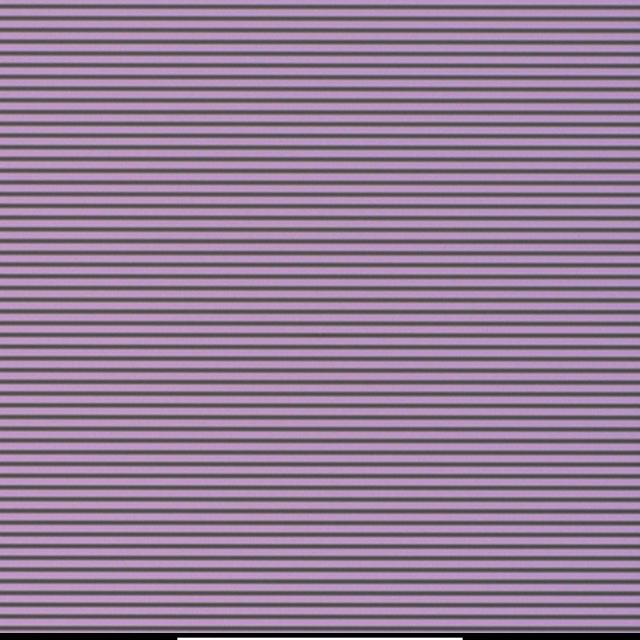03_intrusion: (327, 335, 336, 347)
